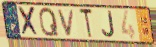4: (120, 10, 137, 42)
J: (101, 10, 116, 39)
Q: (39, 7, 60, 38)
T: (78, 7, 95, 40)
V: (57, 9, 77, 38)
X: (17, 6, 40, 38)
